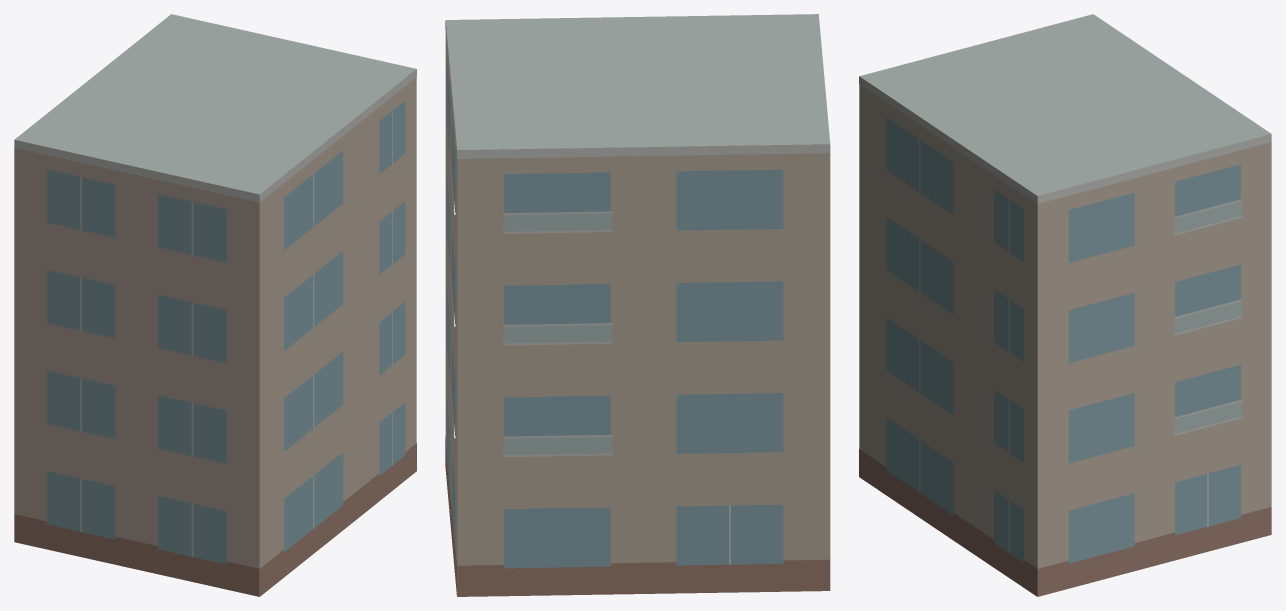
The model's file is residential-d862a4be-7e5e-43b0-83d3-49a07ae0a2f8.glb.
3 renders of one model, left to right at view 1: azimuth 30°, elevation 25°; view 2: azimuth 150°, elevation 25°; view 3: azimuth 270°, elevation 25°, orthographic. The views are drawn at different scales.
Visible parts, largest first — view 1: residential-d862a4be-7e5e-43b0-83d3-49a07ae0a2f8.tmp; view 2: residential-d862a4be-7e5e-43b0-83d3-49a07ae0a2f8.tmp; view 3: residential-d862a4be-7e5e-43b0-83d3-49a07ae0a2f8.tmp.
Boxes of the visible parts, x1=… form: residential-d862a4be-7e5e-43b0-83d3-49a07ae0a2f8.tmp: x1=14, y1=14, x2=416, y2=596; residential-d862a4be-7e5e-43b0-83d3-49a07ae0a2f8.tmp: x1=445, y1=14, x2=830, y2=596; residential-d862a4be-7e5e-43b0-83d3-49a07ae0a2f8.tmp: x1=859, y1=14, x2=1271, y2=596.
Bounding box in the file's own units: 11.89 × 12.2 × 11.39.
